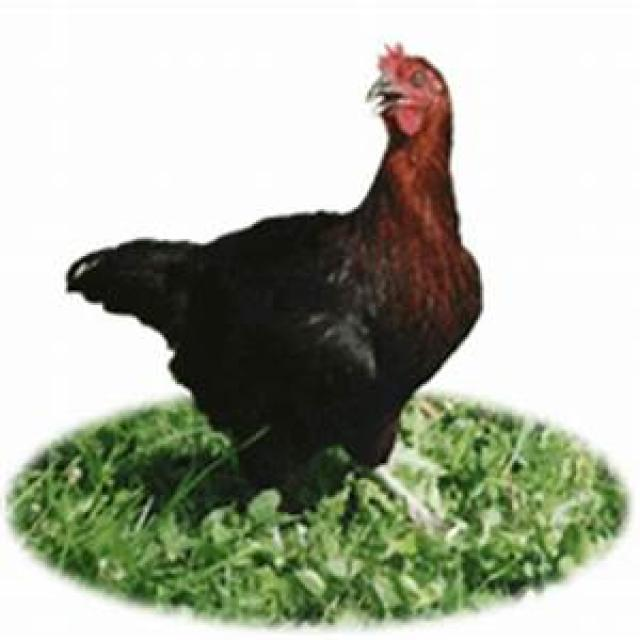hen: (64, 43, 484, 516)
